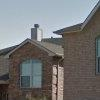Chimney: (25, 18, 48, 49)
